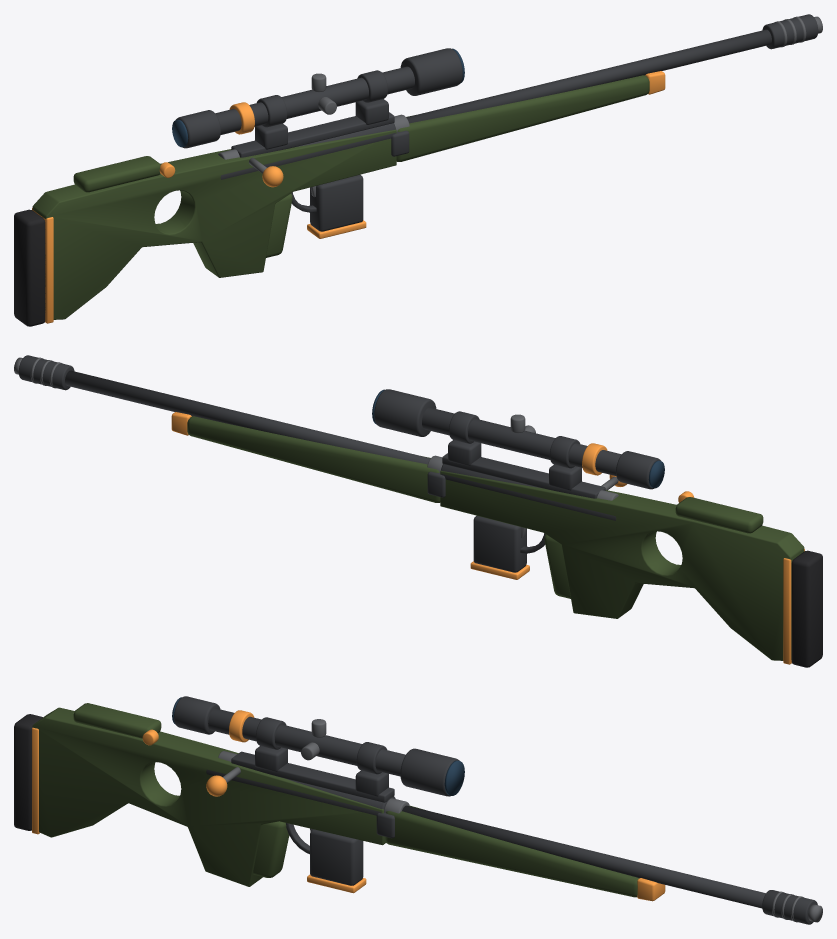
Rendered from sniper.glb.
3 views of the same model, one above another, from view 1: azimuth 30°, elevation 25°; view 2: azimuth 150°, elevation 25°; view 3: azimuth 330°, elevation 25° (orthographic).
Visible parts, largest first — view 1: Stock, Forend, Barrel, ButtPad, ScopeTube, Magazine, ScopeObjective, RailBase, CheekRiser, Receiver, ScopeEyepiece, MuzzleBrake (+6 smaller); view 2: Stock, Forend, Barrel, ButtPad, ScopeTube, Magazine, ScopeObjective, RailBase, CheekRiser, Receiver, ScopeEyepiece, MuzzleBrake (+6 smaller); view 3: Stock, Forend, Barrel, ScopeTube, Magazine, ButtPad, RailBase, ScopeObjective, CheekRiser, PistolGrip, Receiver, ScopeEyepiece (+11 smaller).
Boxes of the visible parts, <box> form: Stock: <box>32,129,396,319</box>; Forend: <box>396,75,649,161</box>; Barrel: <box>406,29,771,123</box>; ButtPad: <box>14,209,45,326</box>; ScopeTube: <box>215,66,414,134</box>; Magazine: <box>310,175,363,231</box>; ScopeObjective: <box>400,48,462,95</box>; RailBase: <box>231,112,394,157</box>; CheekRiser: <box>73,156,160,192</box>; Receiver: <box>220,123,395,179</box>; ScopeEyepiece: <box>176,110,220,148</box>; MuzzleBrake: <box>762,14,818,49</box>; Stock: <box>440,470,804,660</box>; Forend: <box>187,416,440,502</box>; Barrel: <box>65,370,430,464</box>; ButtPad: <box>791,550,822,667</box>; ScopeTube: <box>422,407,621,475</box>; Magazine: <box>473,516,526,572</box>; ScopeObjective: <box>374,389,436,436</box>; RailBase: <box>442,453,605,498</box>; CheekRiser: <box>675,497,763,533</box>; Receiver: <box>441,464,616,520</box>; ScopeEyepiece: <box>616,451,660,489</box>; MuzzleBrake: <box>18,355,74,390</box>; Stock: <box>32,707,386,886</box>; Forend: <box>385,805,638,897</box>; Barrel: <box>402,805,765,908</box>; ScopeTube: <box>208,708,405,776</box>; Magazine: <box>310,829,363,885</box>; ButtPad: <box>14,714,42,830</box>; RailBase: <box>231,751,394,802</box>; ScopeObjective: <box>400,748,459,796</box>; CheekRiser: <box>73,703,161,738</box>; PistolGrip: <box>253,821,289,877</box>; Receiver: <box>206,769,395,815</box>; ScopeEyepiece: <box>174,696,220,734</box>.
Size of what is drawn, in the model's own units: 1.35 by 0.2838 by 0.126.
